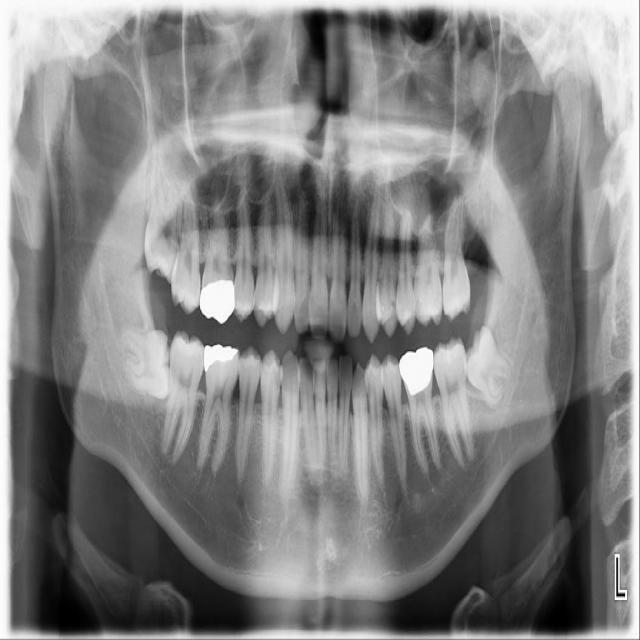3M ESPE Implant: (141, 153, 188, 285)
52: (196, 264, 241, 327), (197, 341, 244, 392), (396, 346, 440, 397), (414, 300, 422, 319), (391, 301, 396, 310)
73: (590, 579, 594, 590)
BioHorizons Implant: (438, 177, 472, 322)
Biomet 3i Implant: (447, 323, 523, 410)
Blue Sky Bio Implant: (431, 335, 475, 467)
Caries: (171, 167, 201, 315)
Implant: (159, 328, 208, 465)
Keystone Dental Implant: (117, 326, 174, 401)
